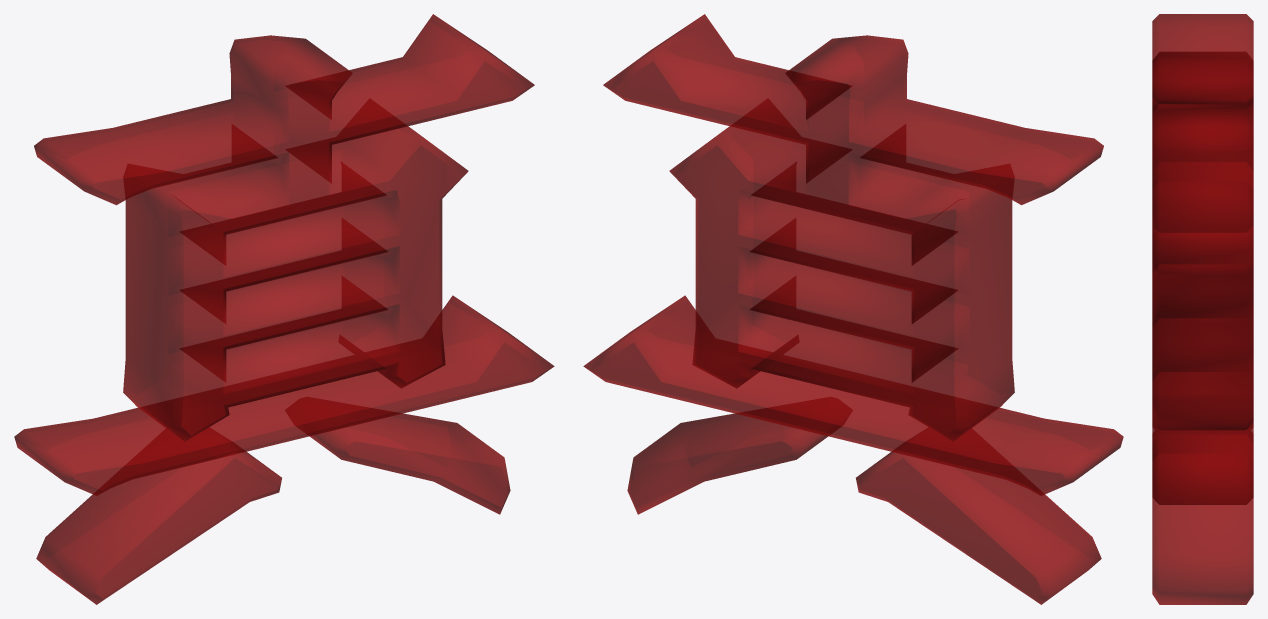
File: quest06.glb
3 views of the same model, side by side, from view 1: azimuth 30°, elevation 25°; view 2: azimuth 150°, elevation 25°; view 3: azimuth 270°, elevation 25° (orthographic). The views are drawn at different scales.
Visible parts, largest first — view 1: Text.006; view 2: Text.006; view 3: Text.006.
Part boxes in pixels (<box>): Text.006: <box>14,14,554,604</box>; Text.006: <box>583,14,1123,604</box>; Text.006: <box>1152,14,1253,604</box>.
Bounding box in the file's own units: 0.7247 × 0.6933 × 0.14.
